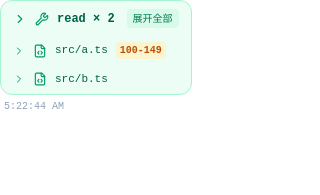
Test: FileToolGroupCard read 行 › 展开全部时每行显示各自内容
Click the button "展开全部" at (153, 18), box [127, 9, 179, 28]
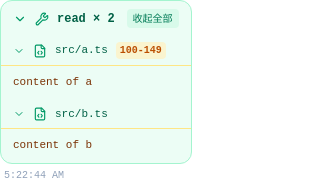
Now the element with test id "tool-file-detail" reads "content of a", box [13, 76, 92, 88]
Now the element with test id "tool-file-detail" reads "content of b", box [13, 139, 92, 151]
